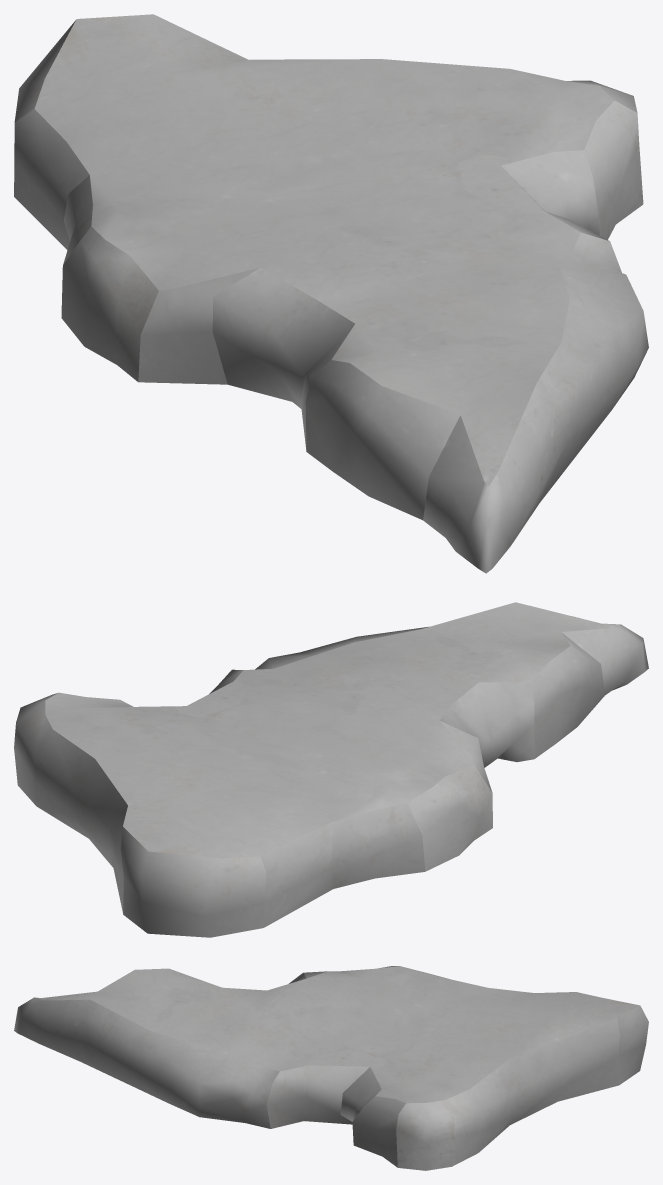
The model's file is SM_Ground_Debris_M4.fbx.
3 renders of one model, top to bottom at view 1: azimuth 30°, elevation 25°; view 2: azimuth 150°, elevation 25°; view 3: azimuth 270°, elevation 25°, orthographic. The views are drawn at different scales.
Parts seen in each view (by area): view 1: SM_Ground_Debris_M4_LOD0; view 2: SM_Ground_Debris_M4_LOD0; view 3: SM_Ground_Debris_M4_LOD0.
Boxes of the visible parts, box(x1,y1,x2,y2) form: SM_Ground_Debris_M4_LOD0: box(14, 14, 648, 573); SM_Ground_Debris_M4_LOD0: box(14, 602, 648, 937); SM_Ground_Debris_M4_LOD0: box(14, 966, 648, 1170).
Size of the model in its own units: 149 by 250 by 29.89.
1 material, 1 textured.
